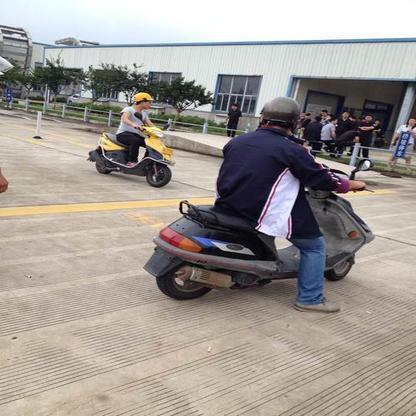target: (144, 92, 380, 318), (87, 89, 195, 188)
